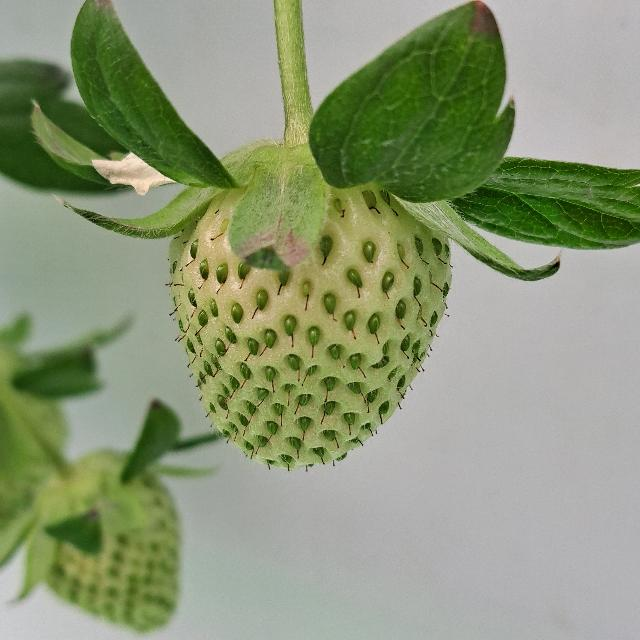Health_25: (168, 188, 452, 470), (27, 442, 179, 636)
